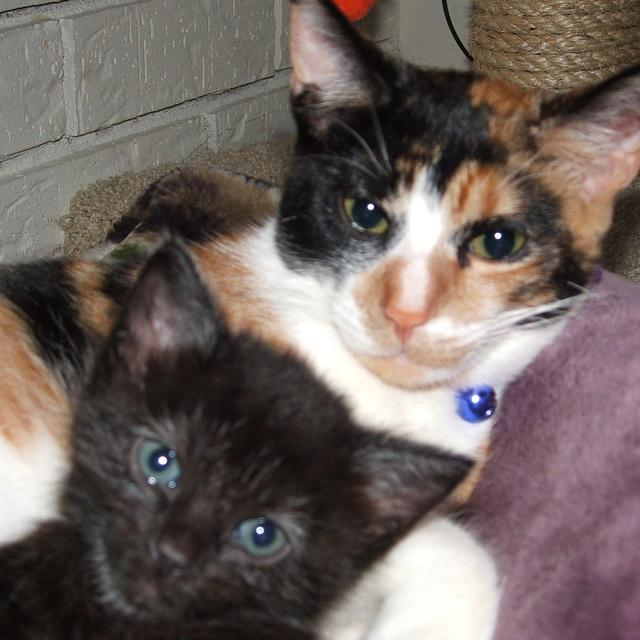animals: (296, 0, 640, 342)
